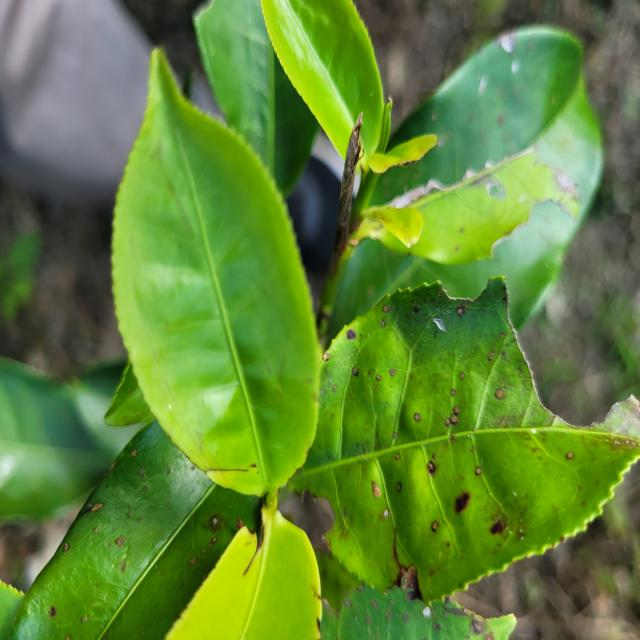Category B(2-4 days): (104, 31, 329, 520)
